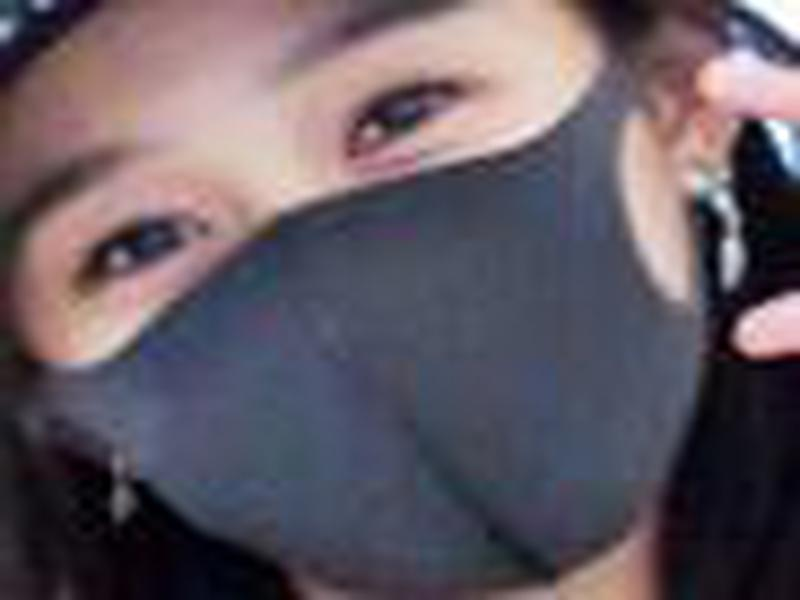with_mask: (1, 1, 739, 599)
